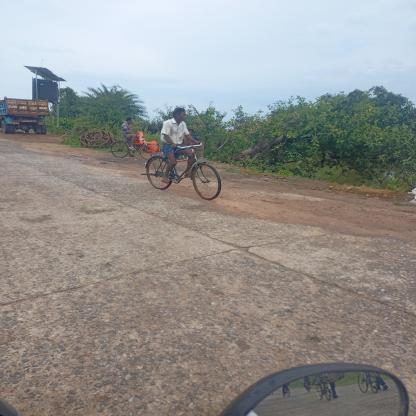bicycle: (129, 140, 228, 206), (107, 134, 158, 161)
